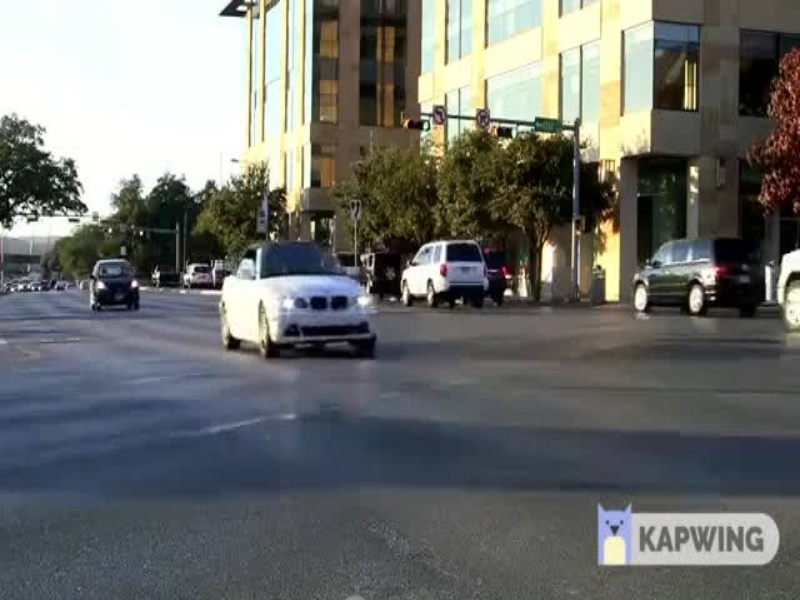car: (196, 223, 392, 372), (72, 251, 164, 318)
suv: (393, 239, 489, 309)
van: (622, 233, 765, 323)
